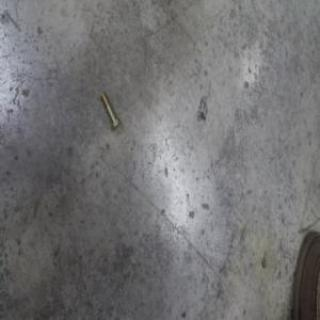Bolttrack_idkeyframe: (98, 89, 119, 131)
